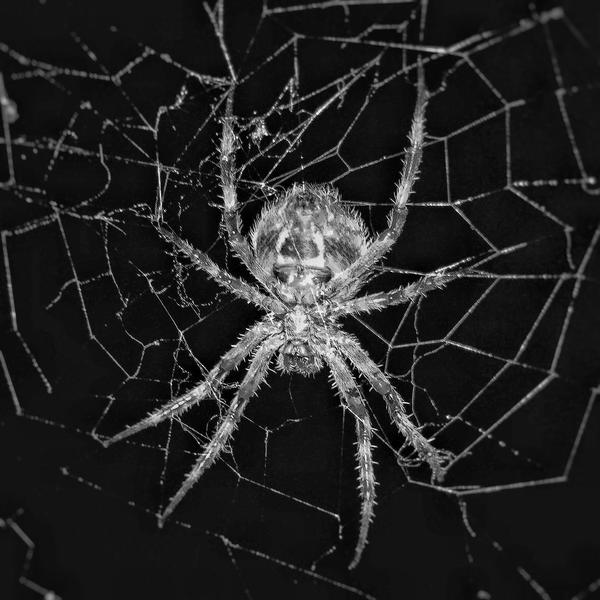Garden_Orb_Weaver_Spider: (101, 123, 478, 571)
